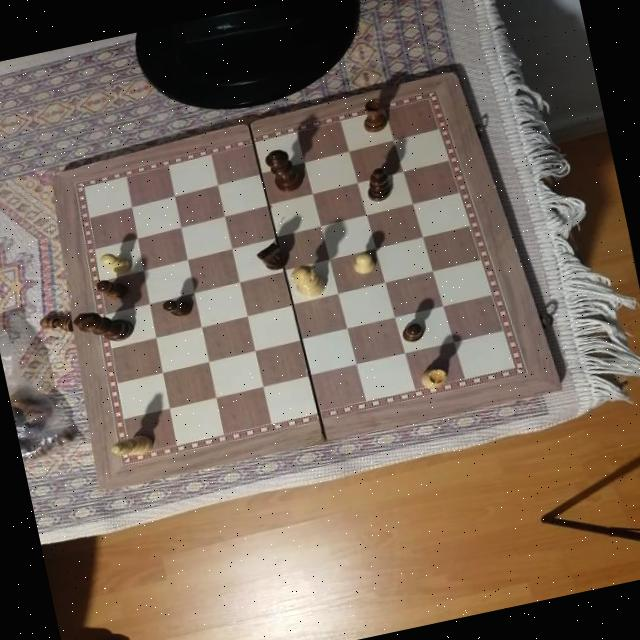corners: (534, 368, 576, 401), (435, 49, 468, 86), (38, 159, 68, 188), (89, 475, 119, 500)
